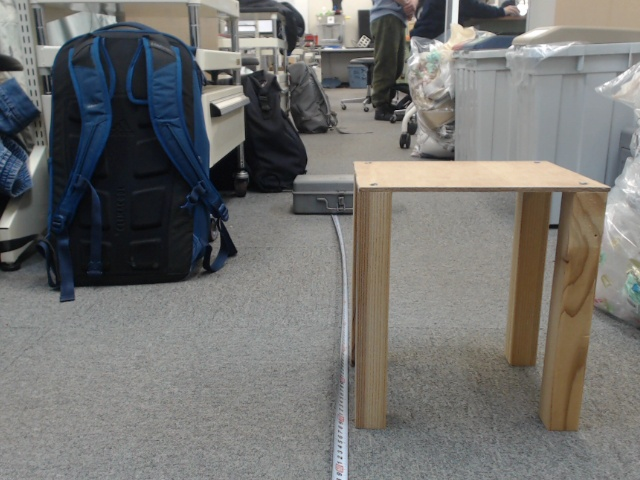desk: (241, 170, 466, 434)
